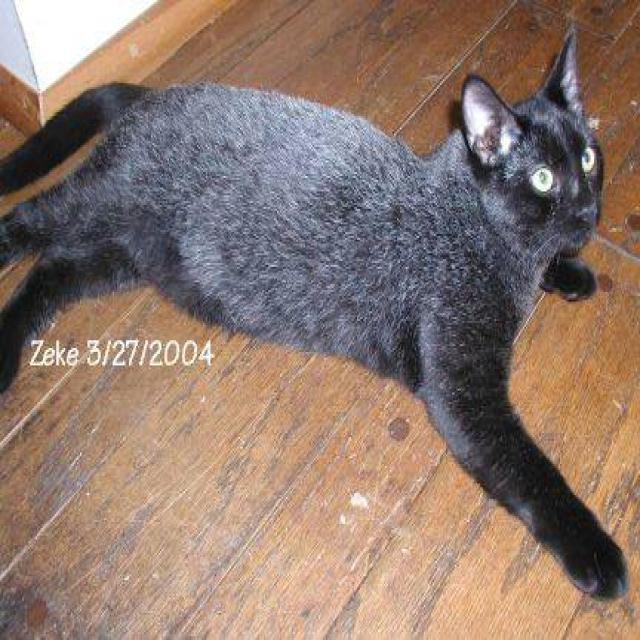cat: (0, 24, 630, 602)
